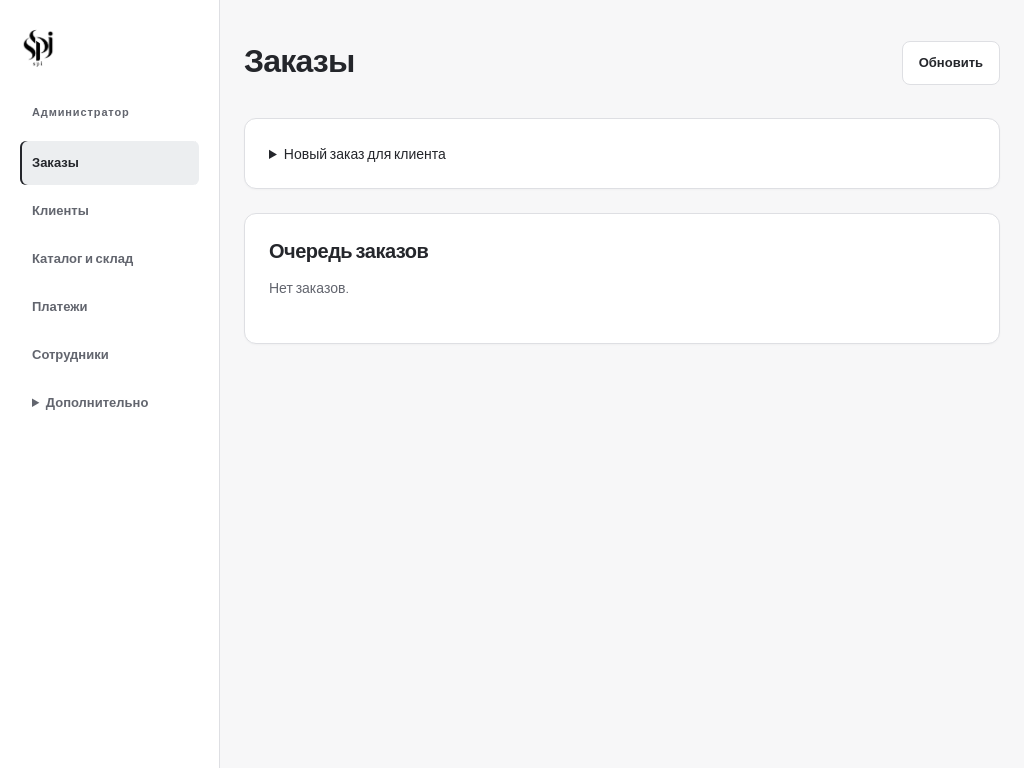
simple client administration › shows immediate access without obsolete credit approval controls
Click the link "Клиенты" at x=60, y=210, box [32, 201, 89, 219]
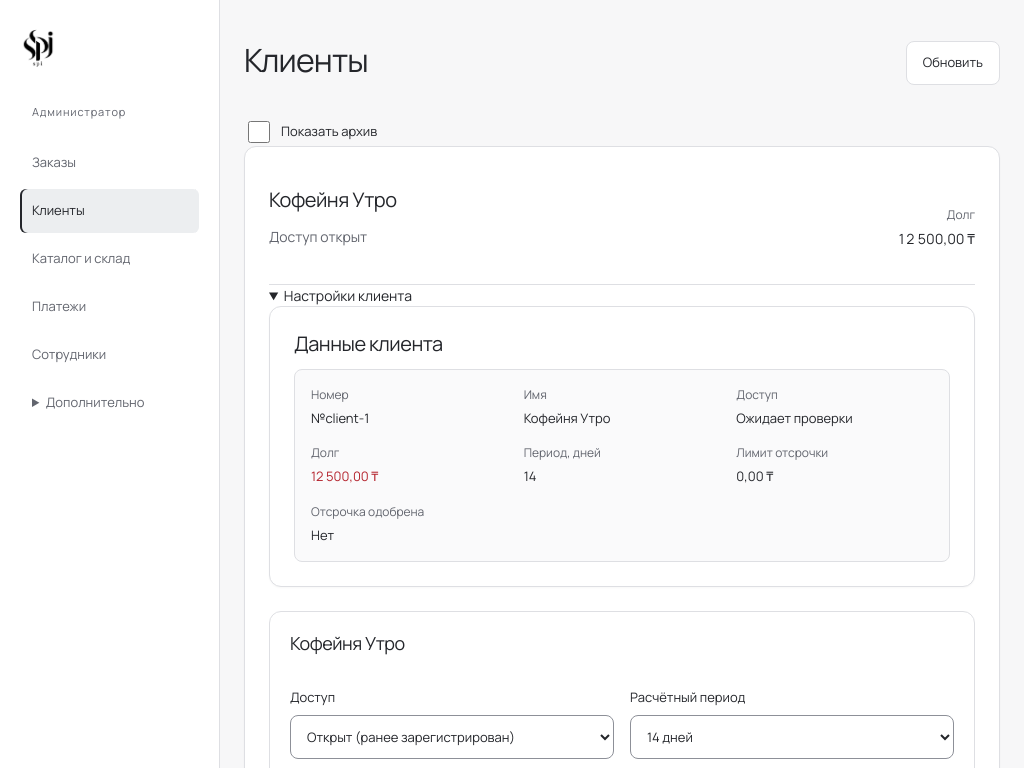
Result: the text "Доступ открыт" is shown at [269, 227, 367, 246]
Result: the 1st text "Долг" is shown at [947, 206, 975, 223]
